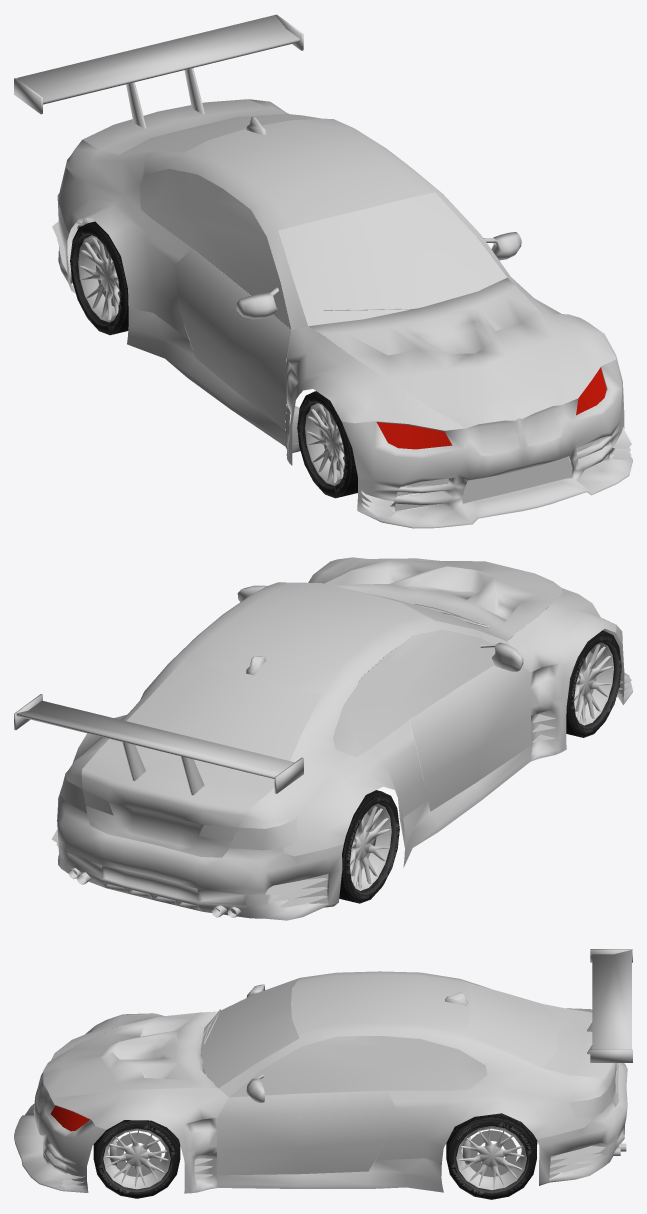
Rendered from car_textures2.dae.
The picture shows the model from 3 angles, top to bottom: view 1: azimuth 30°, elevation 25°; view 2: azimuth 150°, elevation 25°; view 3: azimuth 270°, elevation 25°; orthographic projection. The views are drawn at different scales.
Visible parts, largest first — view 1: karoseria, szyby, zderzak_p, spoiler, felga_tp, opona_tp, felga_pp, opona_pp, lampy_p, lusterka, zderzak_t; view 2: karoseria, szyby, zderzak_t, spoiler, lampy_t, opona_tp, felga_tp, felga_pp, opona_pp, lusterka, zderzak_p; view 3: karoseria, szyby, zderzak_p, zderzak_t, spoiler, opona_tl, felga_tl, opona_pl, felga_pl, hamulec_tl, hamulec_pl, lampy_t (+2 smaller).
Part boxes in pixels (<box>): karoseria: <box>58,99,616,465</box>; szyby: <box>120,114,507,329</box>; zderzak_p: <box>342,356,632,528</box>; spoiler: <box>14,14,303,128</box>; felga_tp: <box>78,235,119,322</box>; opona_tp: <box>70,221,128,335</box>; felga_pp: <box>305,403,344,485</box>; opona_pp: <box>297,391,357,498</box>; lampy_p: <box>376,367,606,449</box>; lusterka: <box>236,232,521,319</box>; zderzak_t: <box>52,193,94,293</box>; karoseria: <box>58,557,616,867</box>; szyby: <box>126,593,505,760</box>; zderzak_t: <box>51,794,343,920</box>; spoiler: <box>14,694,303,795</box>; lampy_t: <box>60,773,298,850</box>; opona_tp: <box>339,790,399,903</box>; felga_tp: <box>350,803,391,890</box>; felga_pp: <box>574,642,613,725</box>; opona_pp: <box>566,630,621,737</box>; lusterka: <box>237,585,523,671</box>; zderzak_p: <box>509,607,632,704</box>; karoseria: <box>43,971,618,1193</box>; szyby: <box>200,978,556,1097</box>; zderzak_p: <box>14,1026,105,1192</box>; zderzak_t: <box>536,1063,627,1185</box>; spoiler: <box>587,949,632,1062</box>; opona_tl: <box>446,1113,537,1199</box>; felga_tl: <box>456,1126,526,1190</box>; opona_pl: <box>93,1120,180,1198</box>; felga_pl: <box>103,1128,170,1189</box>; hamulec_tl: <box>462,1130,517,1176</box>; hamulec_pl: <box>109,1132,161,1176</box>; lampy_t: <box>569,1078,615,1118</box>.
Size of the model in its own units: 6.33 by 15.19 by 4.17.
13 materials, 1 textured.
